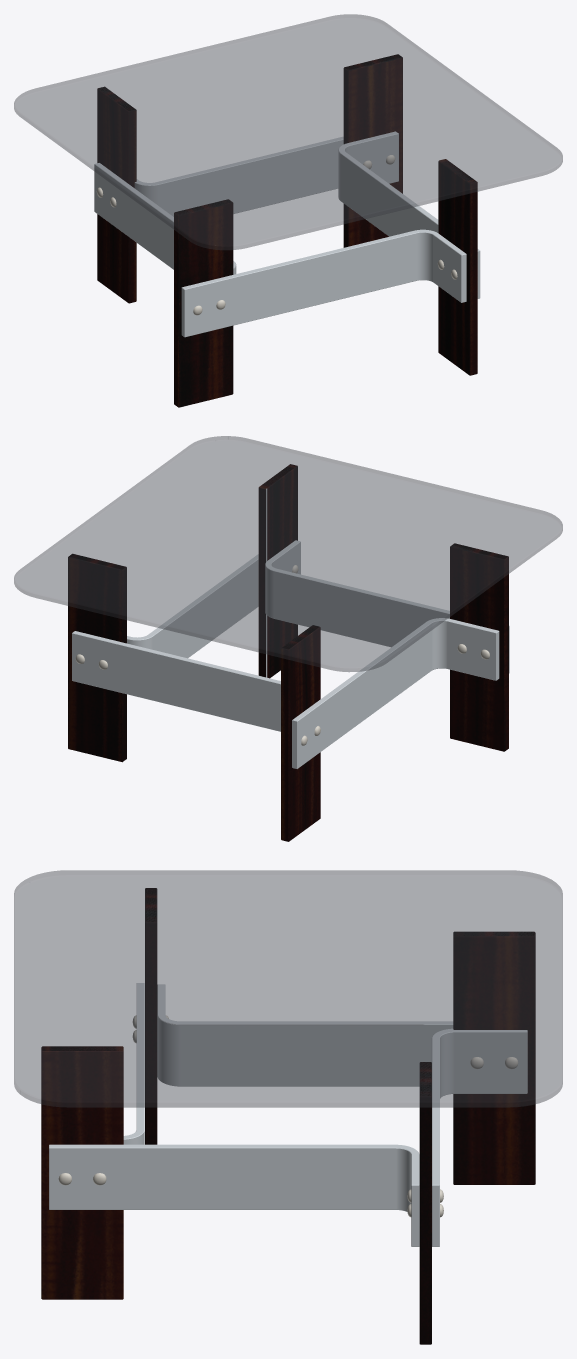
The model's file is vintage_coffee_table_70s_03_freebie.glb.
The picture shows the model from 3 angles, top to bottom: view 1: azimuth 30°, elevation 25°; view 2: azimuth 150°, elevation 25°; view 3: azimuth 270°, elevation 25°; orthographic projection. The views are drawn at different scales.
Visible parts, largest first — view 1: SM_Tavle02; view 2: SM_Tavle02; view 3: SM_Tavle02.
Part boxes in pixels (<box>): SM_Tavle02: <box>14,14,562,407</box>; SM_Tavle02: <box>14,436,562,841</box>; SM_Tavle02: <box>14,870,562,1344</box>.
Size of the model in its own units: 1 by 0.5125 by 1.
1 material, 1 textured.
